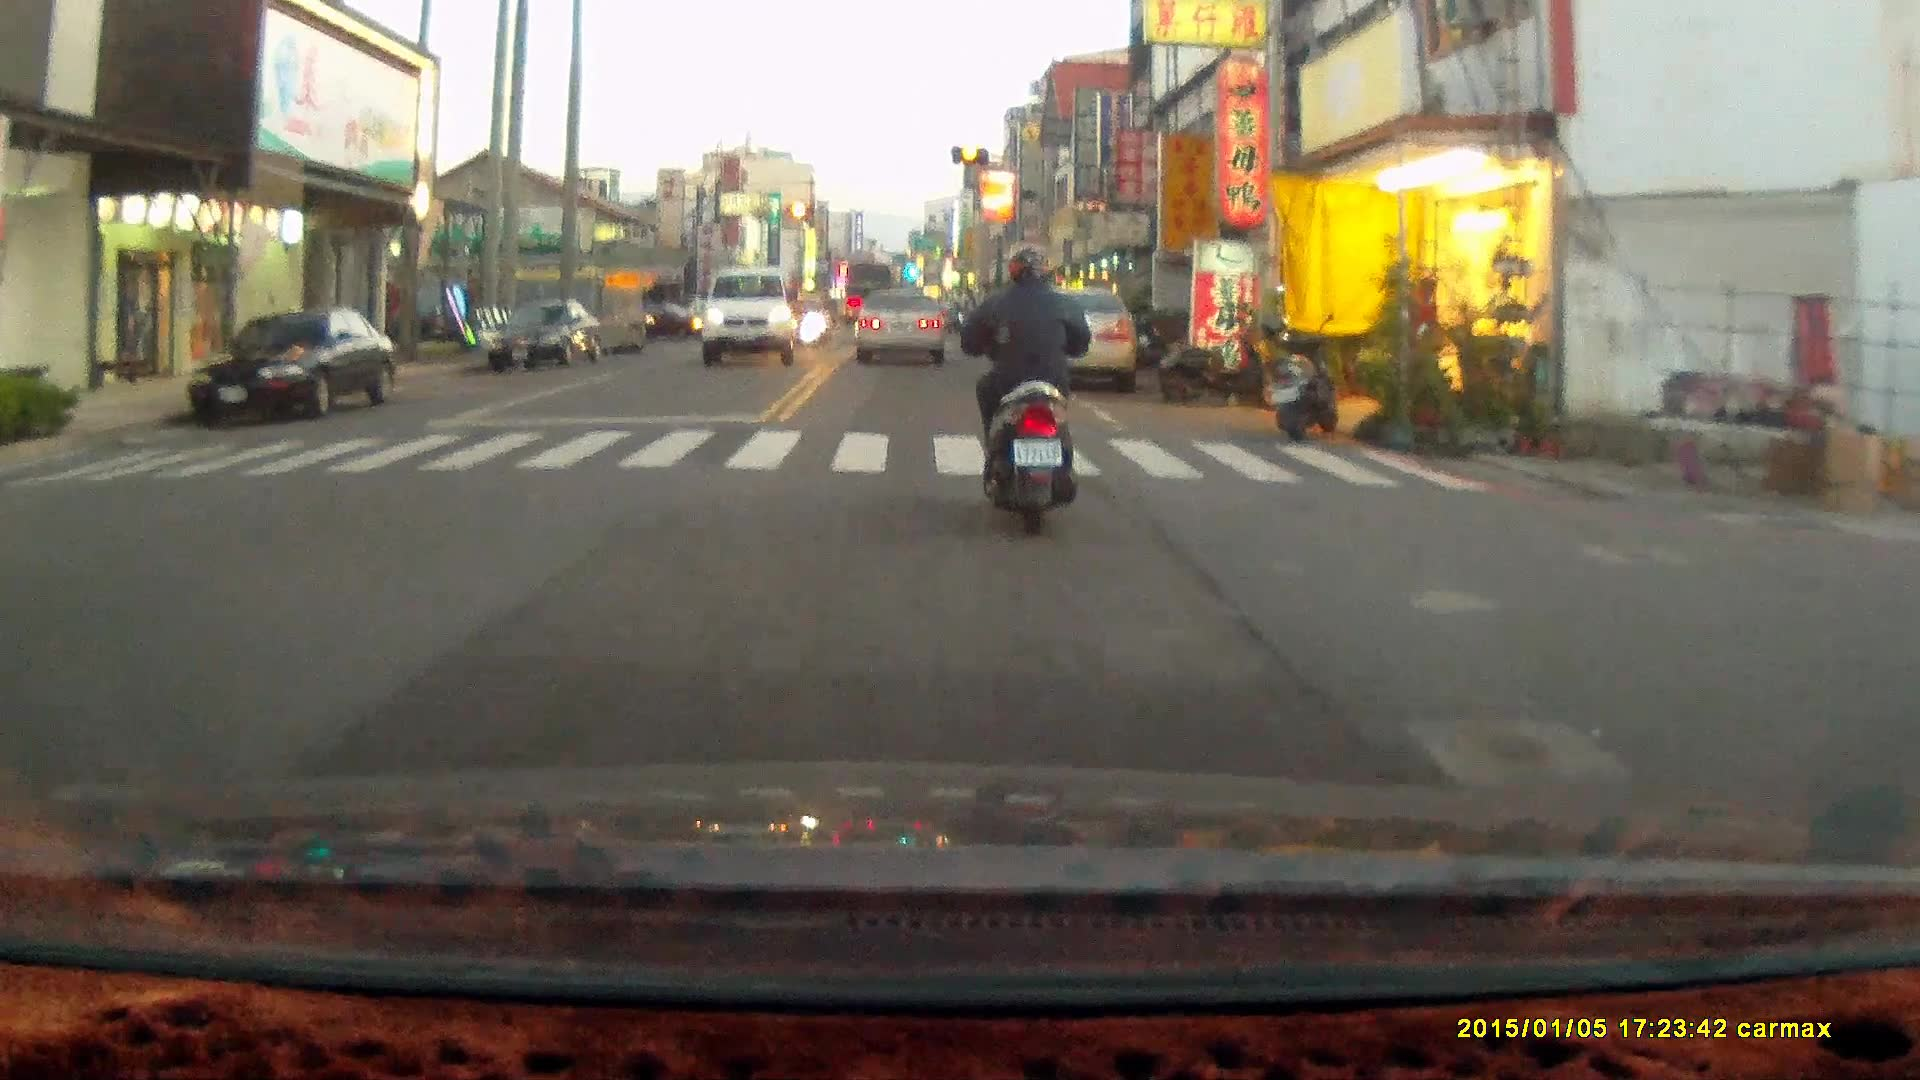pedestrian: (1412, 277, 1444, 393)
rider: (957, 250, 1091, 543)
vehicle: (182, 315, 394, 426), (1015, 290, 1144, 398), (700, 269, 801, 370), (487, 300, 605, 378), (860, 294, 958, 366)
